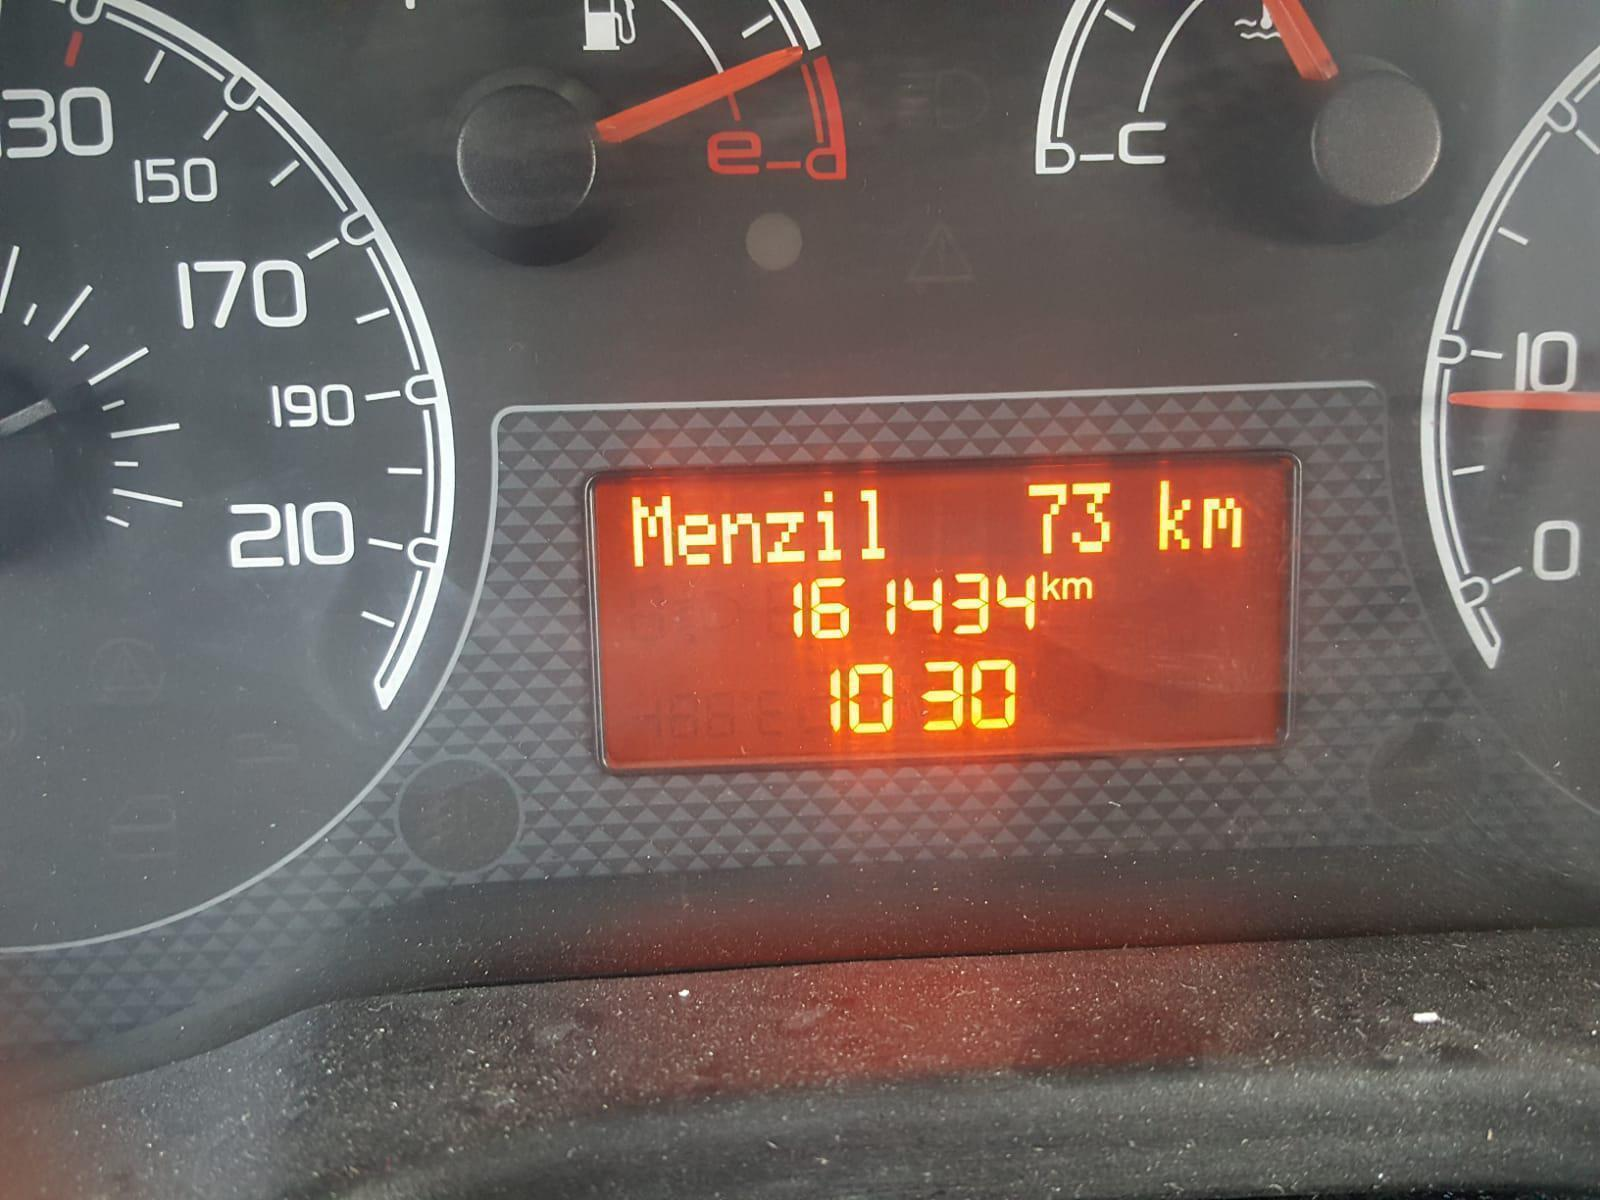0: (847, 658, 896, 742), (969, 658, 1017, 736)
1: (819, 664, 843, 742), (786, 572, 806, 652), (884, 574, 903, 648)
3: (1070, 475, 1117, 560), (918, 654, 964, 737), (951, 572, 988, 639)
4: (901, 572, 947, 642), (991, 566, 1036, 633)
6: (811, 575, 850, 648)
7: (1022, 471, 1070, 556)
X: (627, 492, 671, 570), (813, 484, 848, 567), (1157, 475, 1193, 555), (1201, 492, 1249, 550), (716, 511, 763, 567), (857, 482, 887, 568), (677, 509, 714, 567), (770, 509, 804, 565), (1036, 568, 1060, 605), (1063, 575, 1094, 603)
odometer: (571, 445, 1313, 782)
